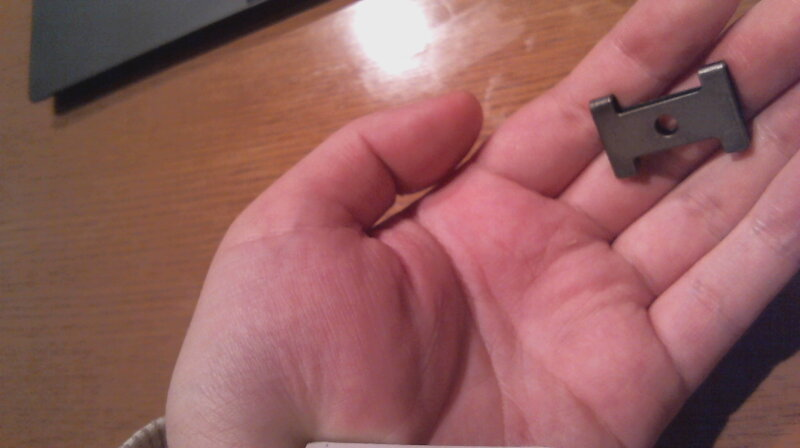O002: (586, 61, 753, 178)
